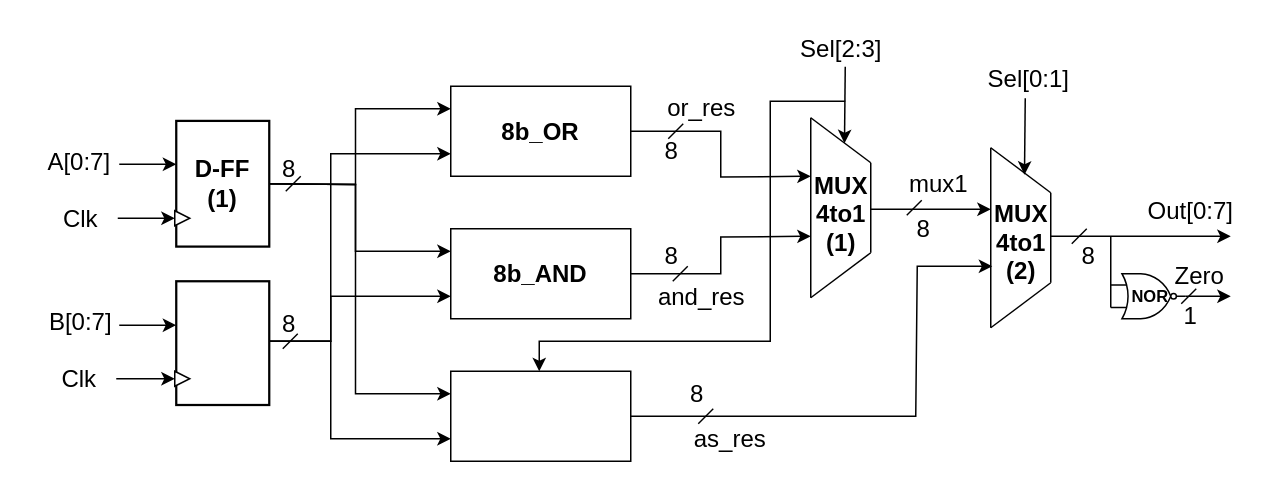
Some shapes in this 1275 by 488 pixel diagram are drawn without their labels. Here are the shapes that lost their labels. From the top down, the box of each, then its label:
(174, 279, 270, 405): D-FF (2)
(449, 370, 631, 461): 8b_ADD/SUB
